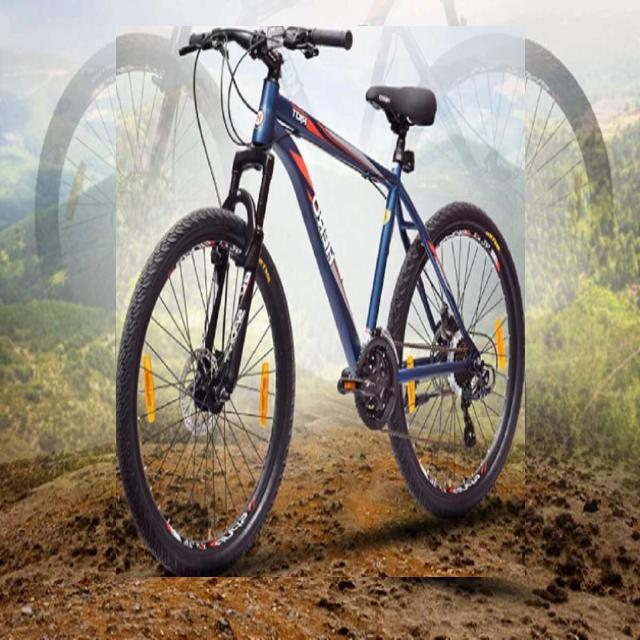bicycle: (116, 26, 525, 577)
